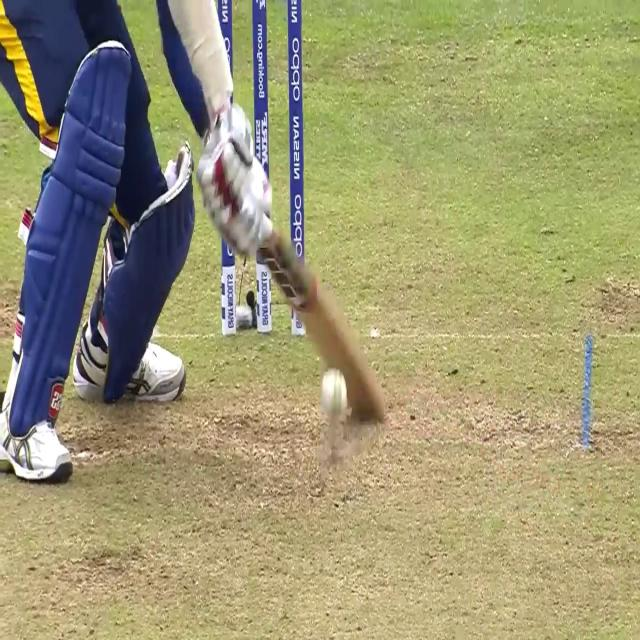ball: (320, 366, 349, 422)
